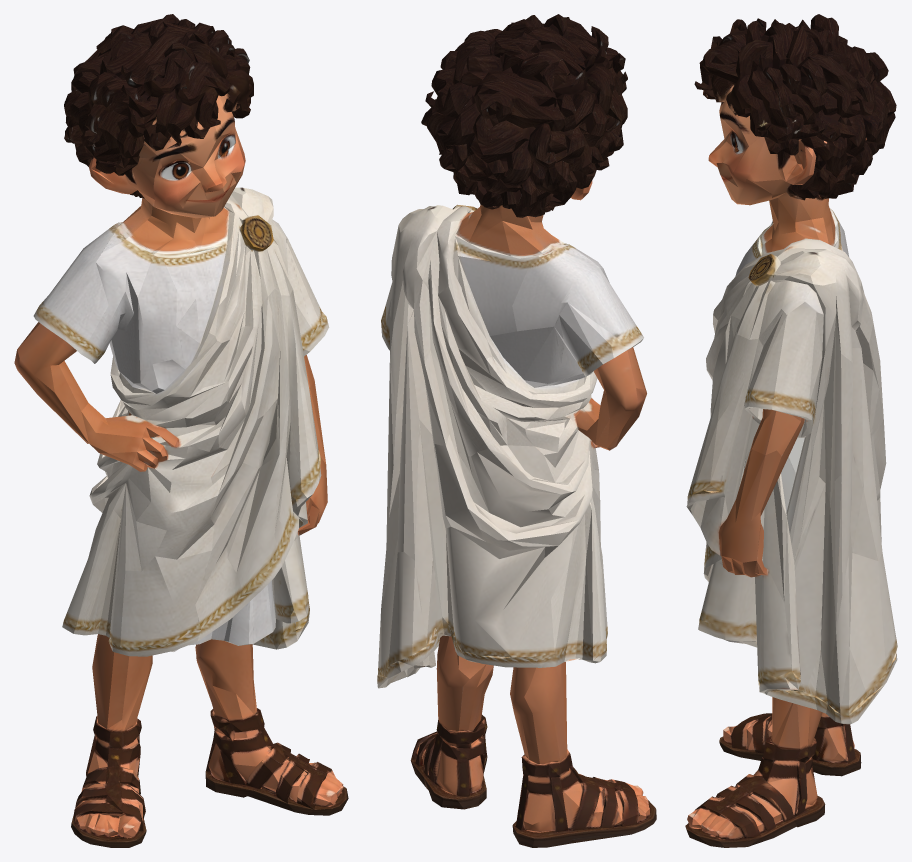
File: lucius.glb
3 renders of one model, left to right at view 1: azimuth 30°, elevation 25°; view 2: azimuth 150°, elevation 25°; view 3: azimuth 270°, elevation 25°, orthographic. The views are drawn at different scales.
Parts seen in each view (by area): view 1: output_unwrapped; view 2: output_unwrapped; view 3: output_unwrapped.
Part boxes in pixels (x1=…): output_unwrapped: x1=14, y1=14, x2=348, y2=847; output_unwrapped: x1=377, y1=14, x2=656, y2=847; output_unwrapped: x1=685, y1=14, x2=897, y2=847.
Bounding box in the file's own units: 0.7168 × 1.9 × 0.4835.
Materials: 1 (1 with a texture image).
